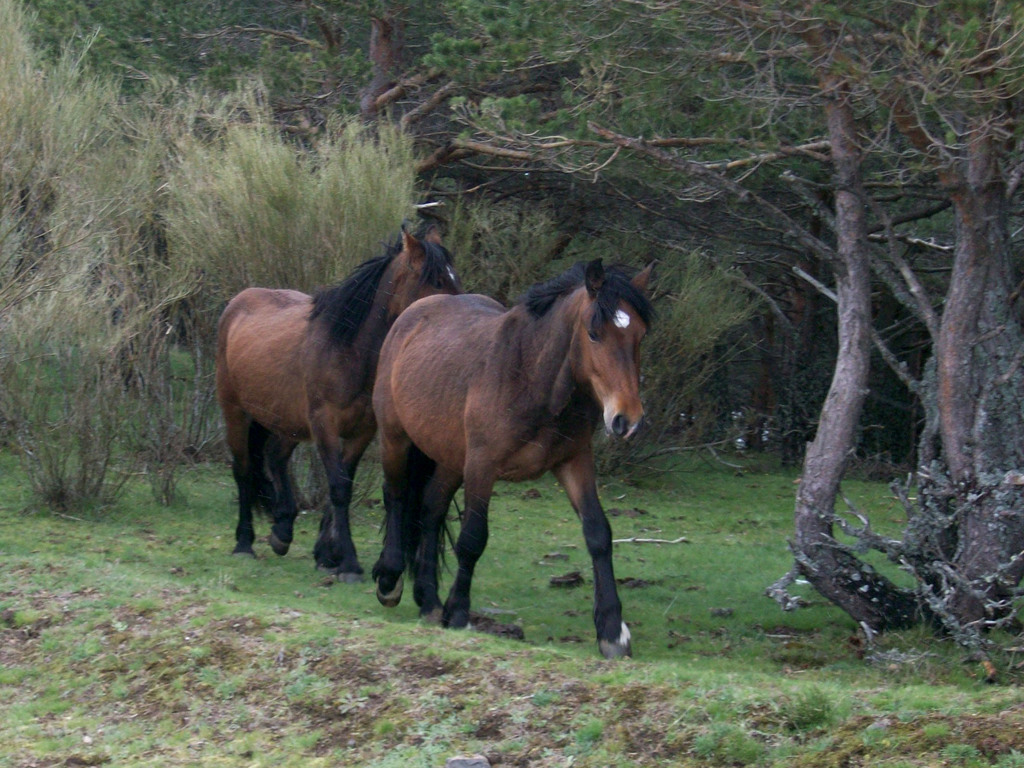horse: (371, 255, 661, 662)
